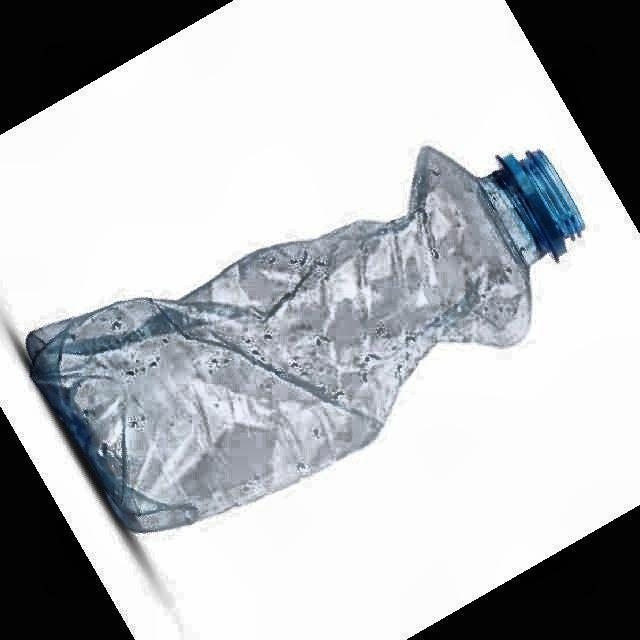plastic: (26, 148, 584, 531)
